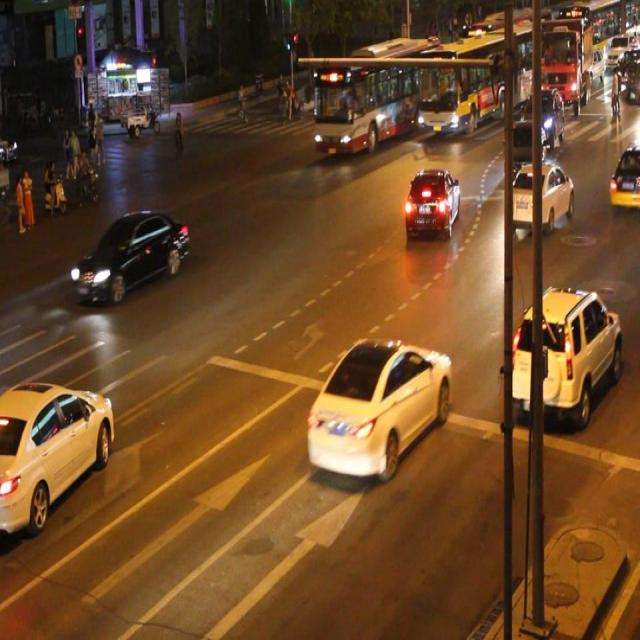car: (306, 340, 449, 472), (1, 380, 115, 528), (509, 288, 620, 422), (73, 211, 188, 302), (505, 161, 572, 228), (403, 167, 460, 240), (502, 120, 544, 187), (607, 144, 640, 206)
van: (314, 37, 438, 149)
